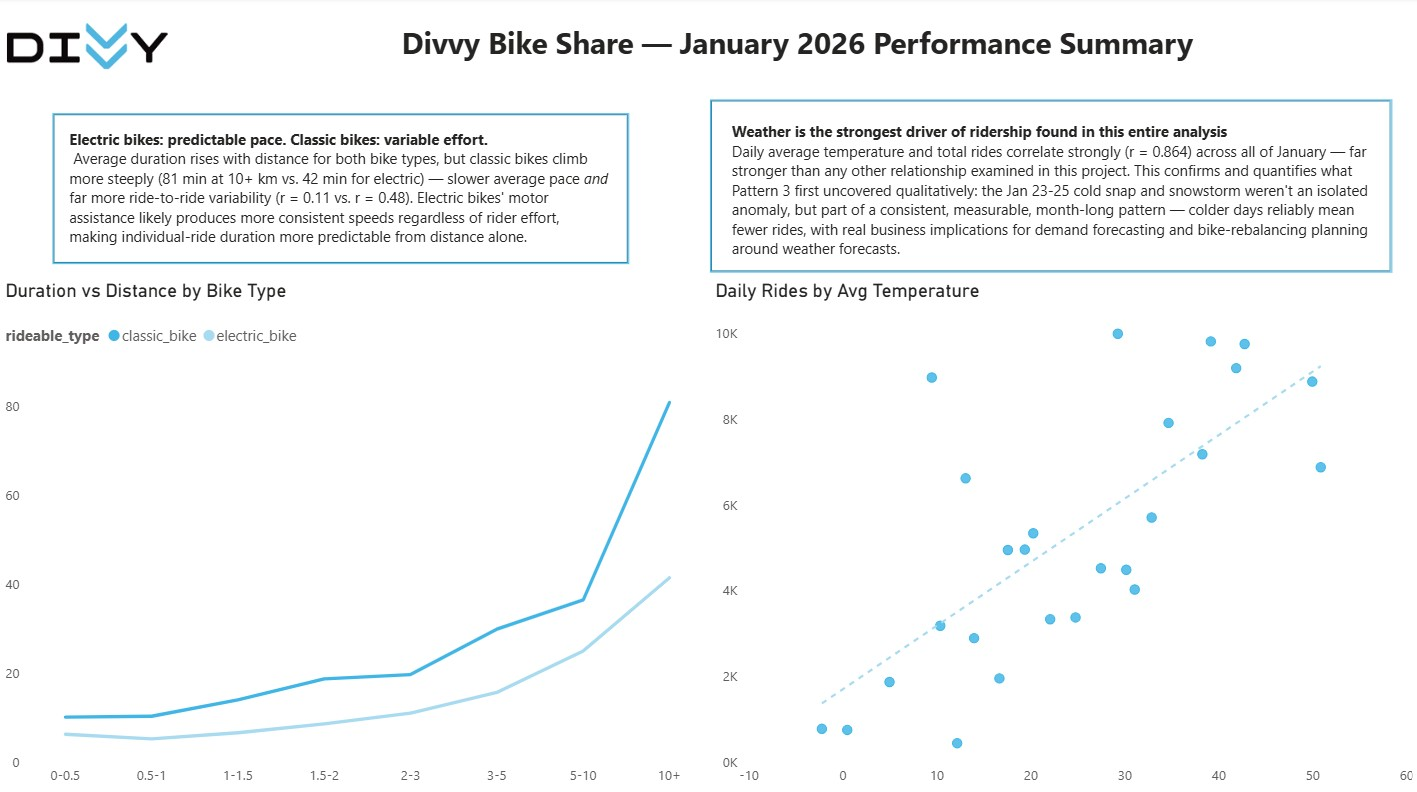

This screenshot's page, from the dashboard's own definition file:
{"tool":"powerbi","page":{"name":"Relationship - Distance and Weather","canvas":[1280,720],"ordinal":7},"visuals":[{"type":"image","box":[0,0,157.6,88.5],"z":0},{"type":"textbox","box":[157.4,0,1122.1,88.7],"z":1000},{"type":"lineChart","title":"Duration vs Distance by Bike Type","fields":{"Category":["Jan2026_Clean.Distance Bucket"],"Series":["Jan2026_Clean.rideable_type"],"Y":["Avg(Jan2026_Clean.duration_min)"]},"box":[0,255,640,465],"z":2000},{"type":"textbox","box":[57.5,113.8,498.9,127.2],"z":3000},{"type":"shape","box":[47.5,105,520,136.2],"z":4000},{"type":"scatterChart","title":"Daily Rides by Avg Temperature","fields":{"X":["DailyTemps.AvgTempF"],"Y":["Jan2026_Clean.Total Rides"]},"box":[640,255,640,465],"z":5000},{"type":"textbox","box":[655,107.5,589.4,141.8],"z":6000},{"type":"shape","box":[640,92.5,615,156.2],"z":7000}]}

Visuals, with their boxes in screenshot pixels (x1, y1, x2, y2), scaled from the page's 1280x720 canvas onto the 1417x792 screenshot:
image: {"left": 0, "top": 0, "right": 174, "bottom": 97}
textbox: {"left": 174, "top": 0, "right": 1416, "bottom": 98}
"Duration vs Distance by Bike Type" lineChart: {"left": 0, "top": 280, "right": 708, "bottom": 791}
textbox: {"left": 64, "top": 125, "right": 616, "bottom": 265}
shape: {"left": 53, "top": 116, "right": 628, "bottom": 265}
"Daily Rides by Avg Temperature" scatterChart: {"left": 708, "top": 280, "right": 1416, "bottom": 791}
textbox: {"left": 725, "top": 118, "right": 1378, "bottom": 274}
shape: {"left": 708, "top": 102, "right": 1389, "bottom": 274}
